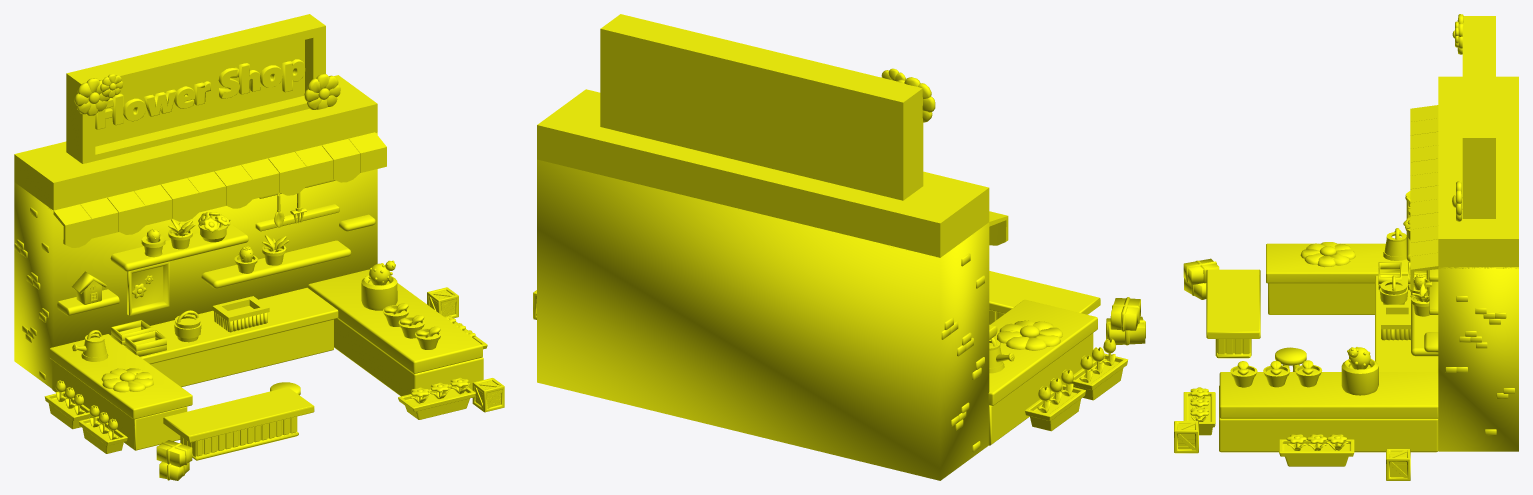
File: shop.glb
3 renders of one model, left to right at view 1: azimuth 30°, elevation 25°; view 2: azimuth 150°, elevation 25°; view 3: azimuth 270°, elevation 25°, orthographic. The views are drawn at different scales.
Visible parts, largest first — view 1: Cube.009, Cube.046, Cube.034, Cube.014, Plane, Cube.040, Plane.001, Cube.112, Text, Cube.001, Cube.010, Cube.008 (+21 smaller); view 2: Cube.009, Cube.046, Cube.034, Cube.112, Cube.008, Cube.001, Plane.022, Cube.045, Cube.029, Cube.108; view 3: Cube.009, Cube.034, Cube.040, Cube.046, Cube.010, Cube.112, Cube.001, Cube.008, Plane.001, Plane, Cube.014, Cube.079 (+17 smaller).
Part boxes in pixels (<box>): Cube.009: <box>14,132,377,388</box>; Cube.046: <box>66,14,325,163</box>; Cube.034: <box>14,75,377,210</box>; Cube.014: <box>140,287,338,387</box>; Plane: <box>53,138,360,247</box>; Cube.040: <box>308,269,482,373</box>; Plane.001: <box>80,132,386,238</box>; Cube.112: <box>49,334,192,419</box>; Text: <box>95,59,305,129</box>; Cube.001: <box>163,387,314,442</box>; Cube.010: <box>334,318,483,396</box>; Cube.008: <box>52,360,187,450</box>; Cube.009: <box>537,159,989,480</box>; Cube.046: <box>600,14,923,200</box>; Cube.034: <box>537,89,989,257</box>; Cube.112: <box>988,299,1097,405</box>; Cube.008: <box>988,333,1093,445</box>; Cube.001: <box>989,271,1100,314</box>; Plane.022: <box>997,320,1062,350</box>; Cube.045: <box>1025,384,1085,431</box>; Cube.029: <box>1070,353,1127,400</box>; Cube.108: <box>1110,298,1140,330</box>; Cube.009: <box>1438,267,1518,451</box>; Cube.034: <box>1438,76,1518,268</box>; Cube.040: <box>1219,372,1438,418</box>; Cube.046: <box>1462,16,1495,218</box>; Cube.010: <box>1219,385,1438,452</box>; Cube.112: <box>1266,243,1426,283</box>; Cube.001: <box>1206,269,1260,338</box>; Cube.008: <box>1268,283,1374,314</box>; Plane.001: <box>1410,118,1438,289</box>; Plane: <box>1410,105,1438,277</box>; Cube.014: <box>1375,275,1438,371</box>; Cube.079: <box>1279,439,1354,466</box>.
Size of the model in its own units: 25.63 by 17.65 by 18.2.
